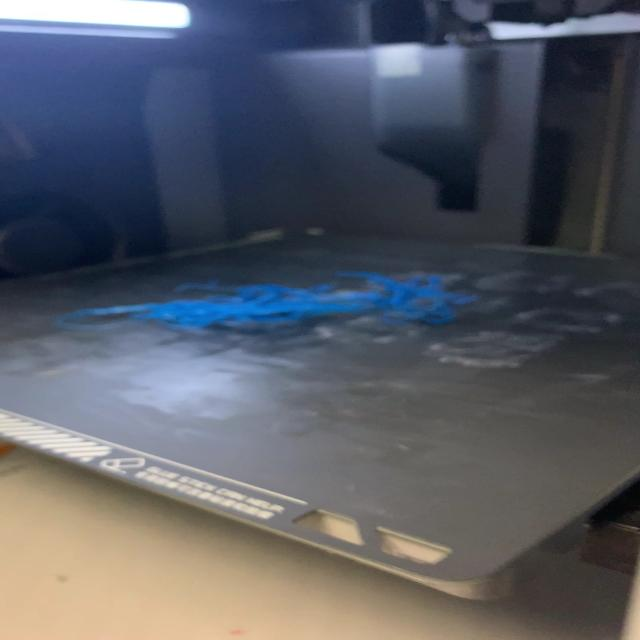spaghetti: (4, 251, 636, 600)
